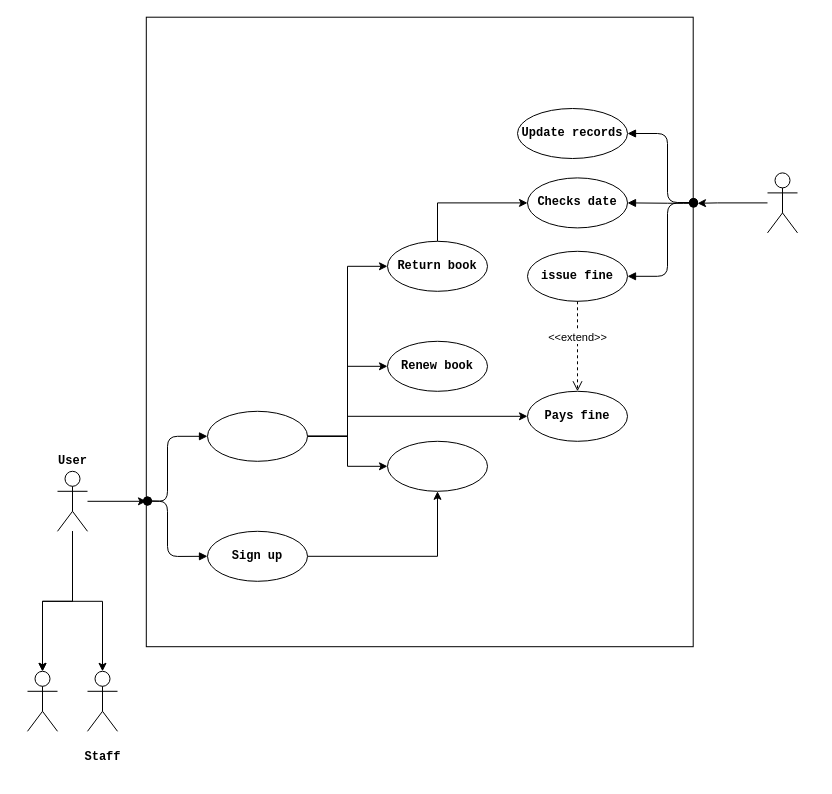
Some shapes in this 832 by 794 pixel diagram are drawn without their labels. Here are the shapes that lost their labels. From the top down, the centre of each, then its label:
At (x=782, y=202): "Librarian".
At (x=257, y=435): "Sign in".
At (x=437, y=465): "Reserve book".
At (x=42, y=700): "Student".
